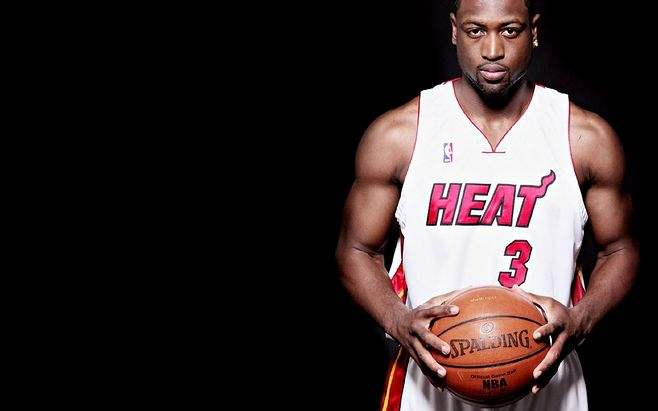ball: (427, 285, 551, 409)
